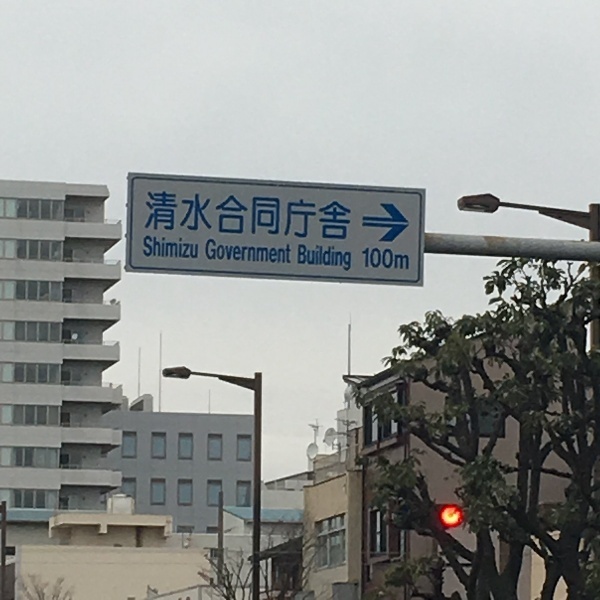text: (161, 190, 176, 242), (177, 190, 192, 242), (193, 190, 208, 242), (209, 190, 224, 242), (225, 190, 240, 242), (241, 190, 256, 242), (257, 190, 272, 242), (273, 190, 288, 242), (289, 190, 304, 242), (305, 190, 320, 242), (321, 190, 336, 242), (337, 190, 351, 242), (147, 190, 160, 242), (305, 243, 320, 271), (321, 243, 336, 271), (337, 243, 352, 271), (209, 238, 224, 264), (225, 238, 240, 264), (241, 238, 256, 264), (257, 238, 272, 264), (273, 238, 288, 264), (145, 235, 160, 259), (161, 235, 176, 259), (177, 235, 192, 259), (369, 247, 384, 270), (385, 247, 400, 270), (401, 247, 409, 270), (298, 243, 304, 271), (193, 235, 198, 259), (363, 247, 368, 270), (206, 238, 208, 264), (289, 238, 291, 264)
